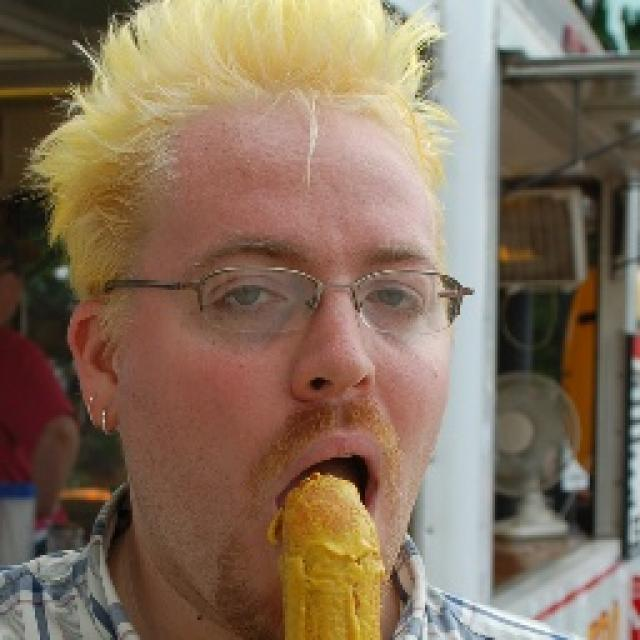earlobe: (67, 296, 120, 437)
